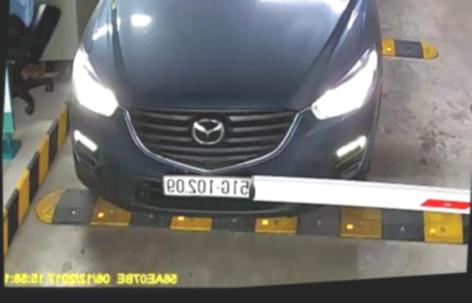License_Plate: (157, 172, 255, 208)
